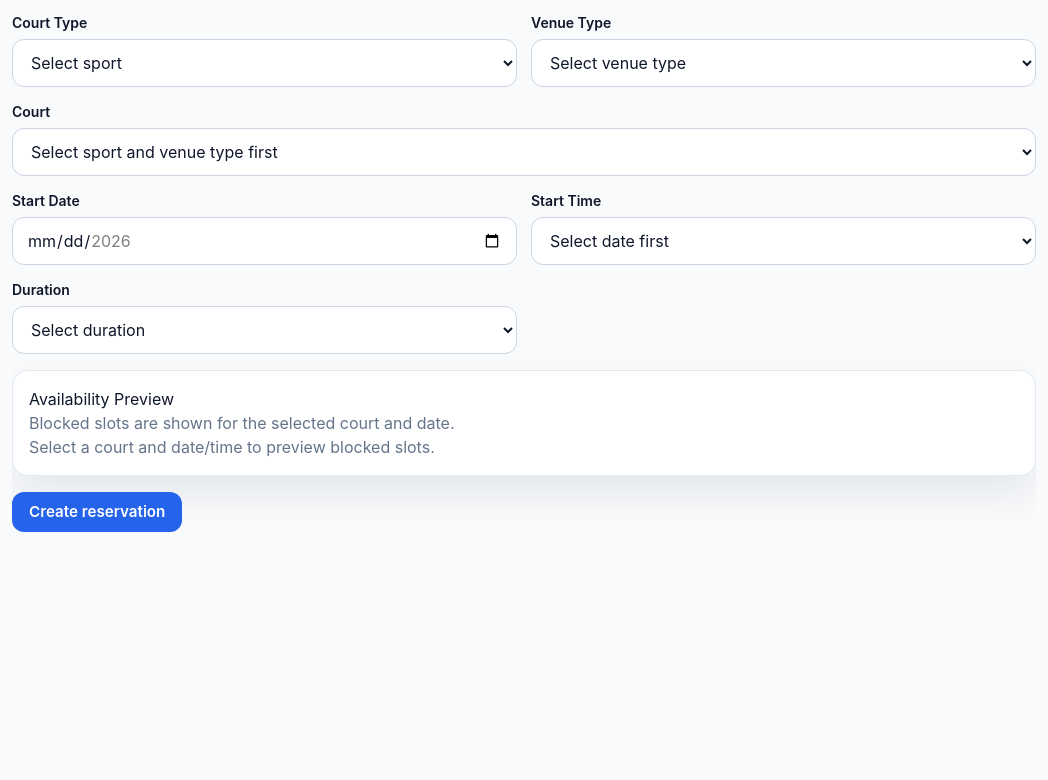
Test case: ReservationForm › renders total booking amount based on selected duration
The width and height of the screenshot is (1048, 780).
Select "BADMINTON" in the dropdown labelled "Court Type" at (264, 63), box top-left (12, 39), bottom-right (517, 87)
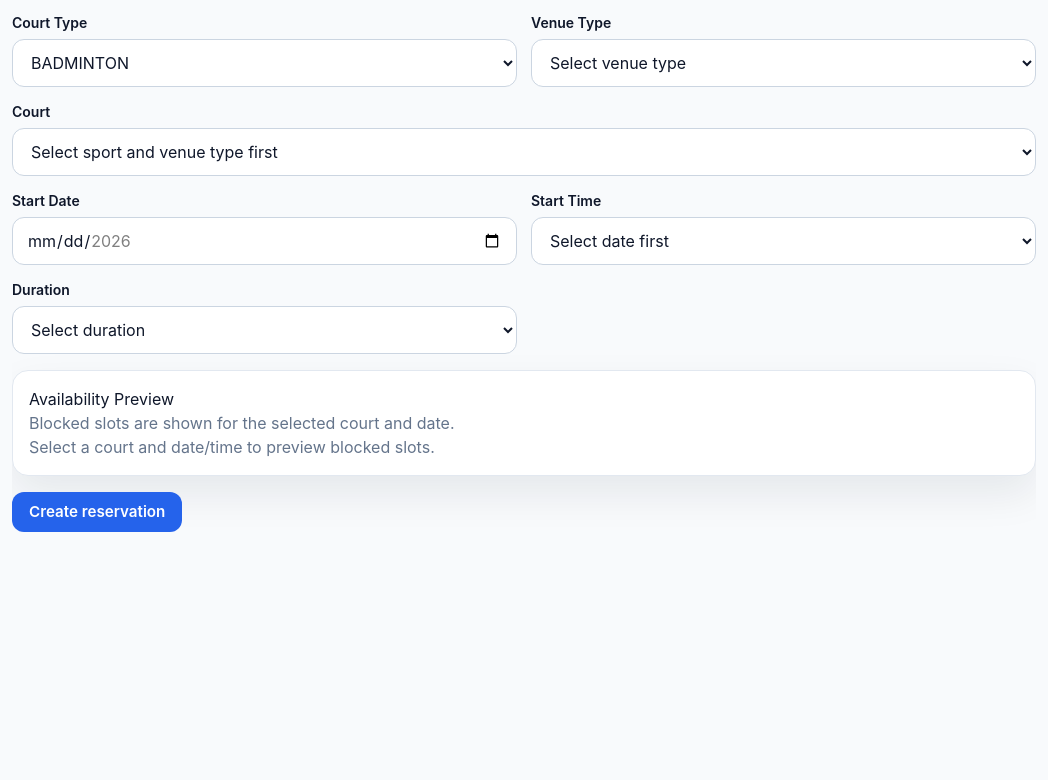
Select "INDOOR" in the dropdown labelled "Venue Type" at (784, 63), box top-left (531, 39), bottom-right (1036, 87)
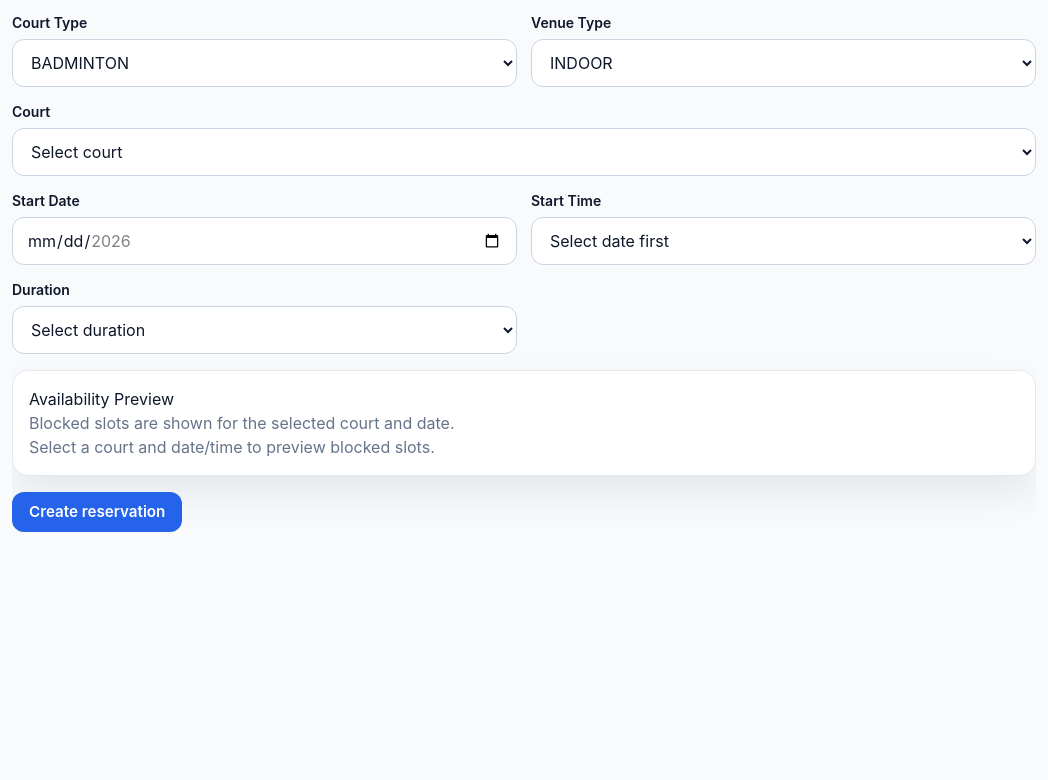
Select "Center Court | Makati | AVAILABLE" in the dropdown labelled "Court" at (524, 152), box top-left (12, 128), bottom-right (1036, 176)
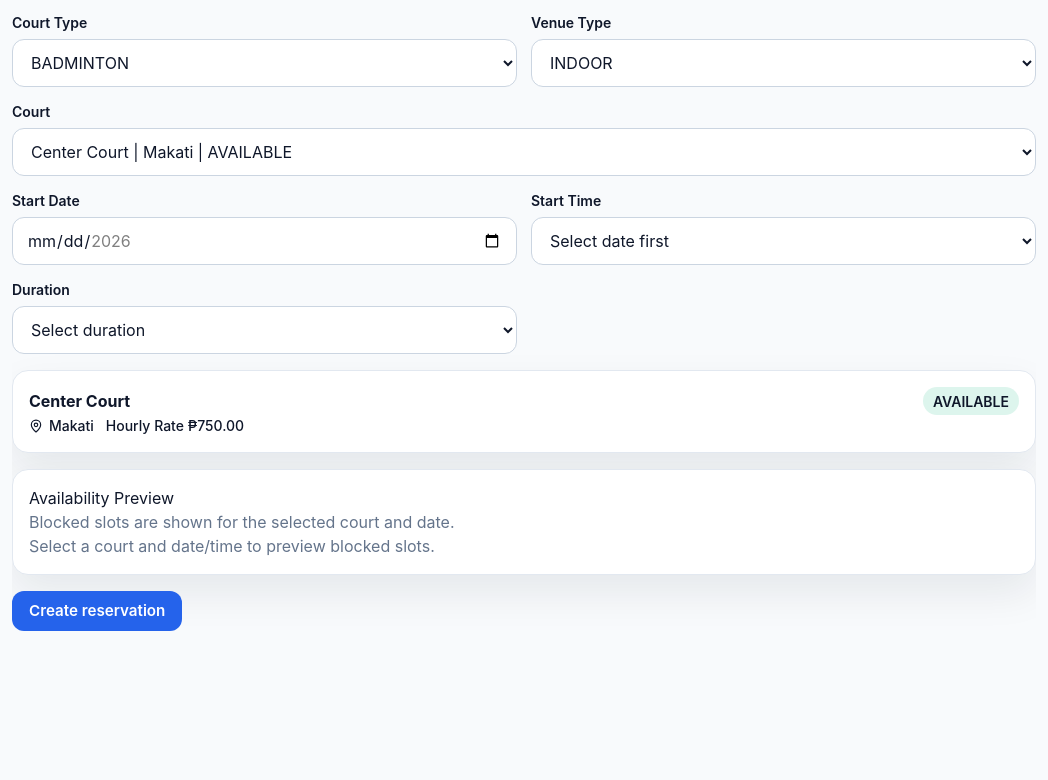
Expected: the text "Total" is not shown
Expected: the text "Hourly Rate ₱750.00" is shown, top-left (106, 415), bottom-right (244, 436)
Select "90 minutes" in the dropdown labelled "Duration" at (264, 330), box top-left (12, 306), bottom-right (517, 354)
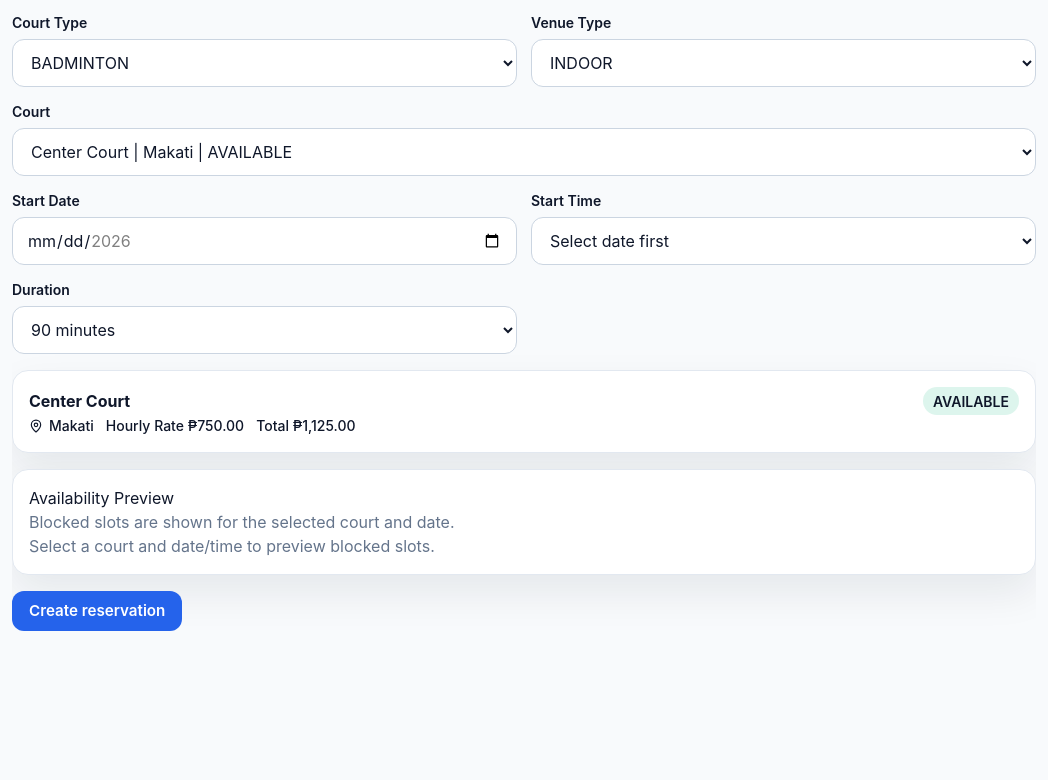
Expected: the text "Total ₱1,125.00" is shown, top-left (256, 415), bottom-right (356, 436)
